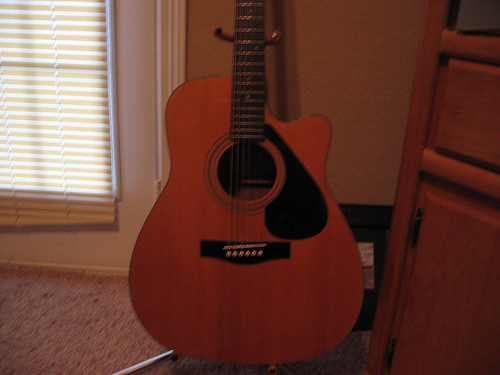guitar: (128, 2, 365, 363)
